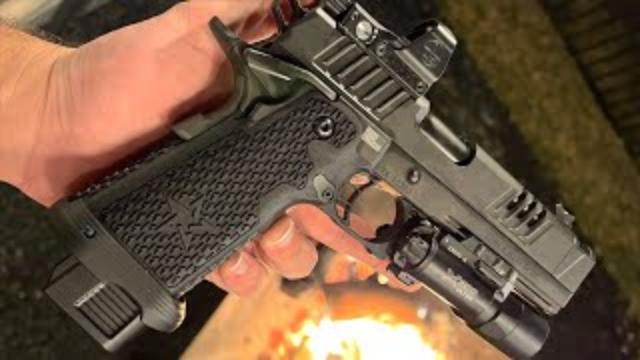handgun: (30, 0, 602, 360)
